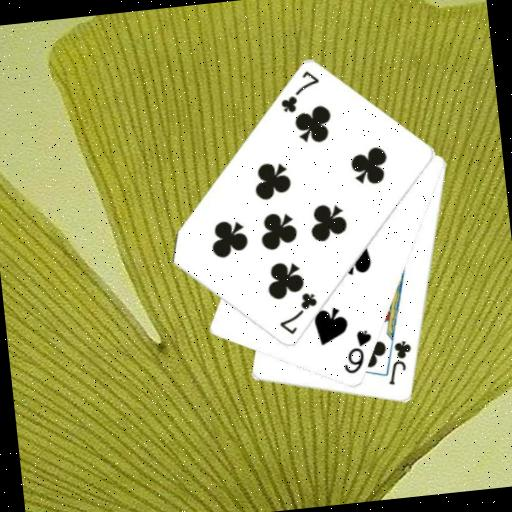6S: (337, 326, 377, 377)
7C: (274, 66, 325, 116), (273, 288, 322, 338)
JC: (382, 337, 417, 388)
